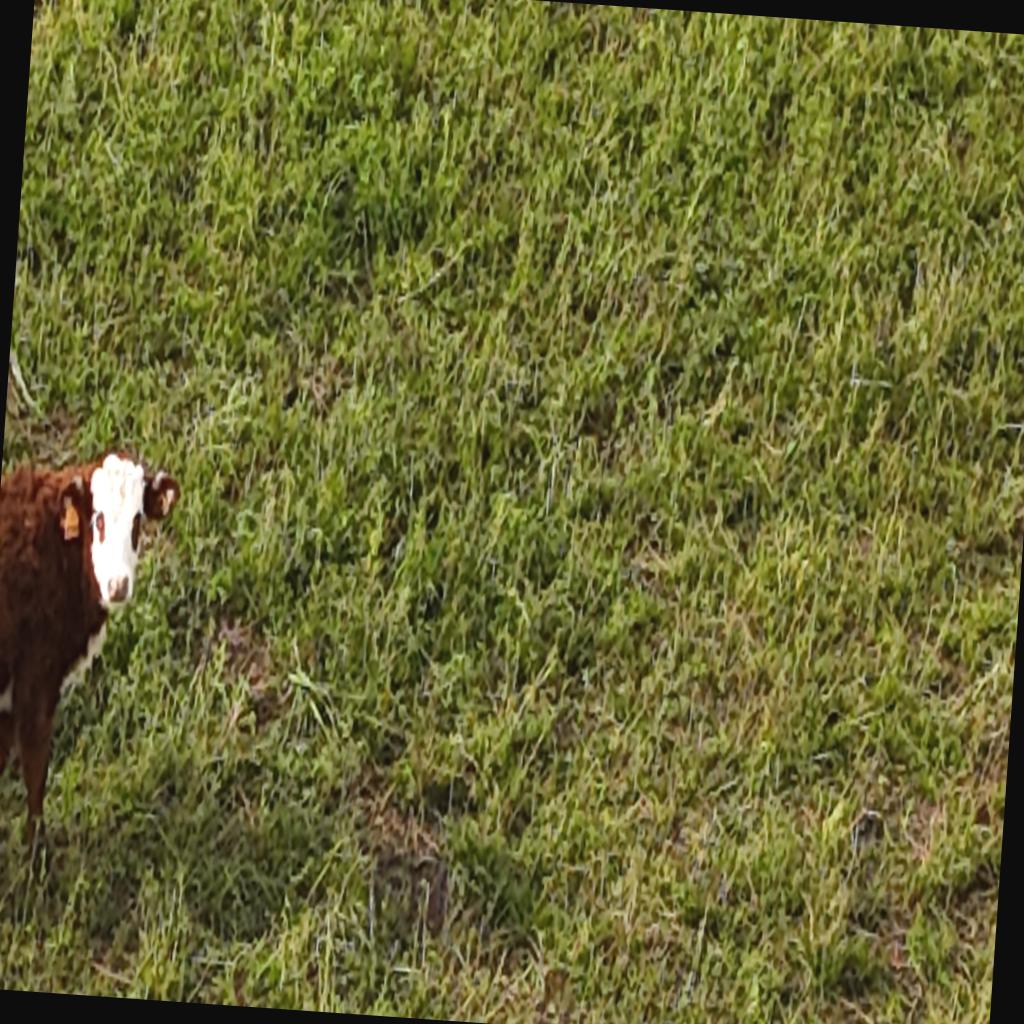cow: (0, 430, 189, 896)
